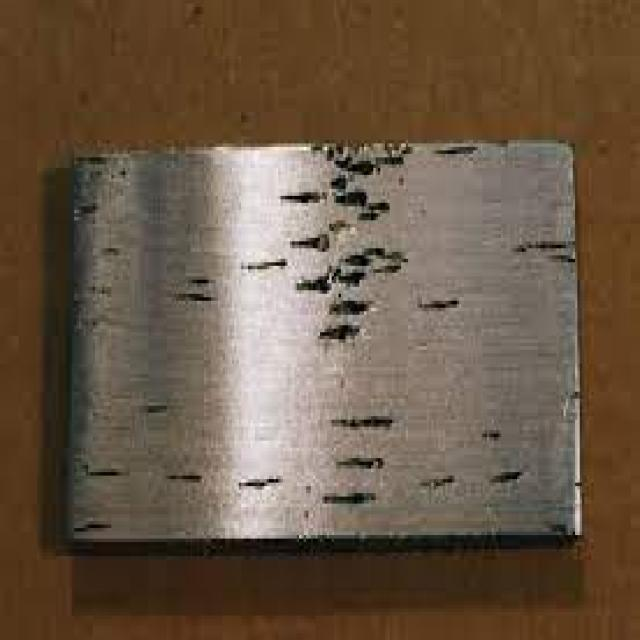Pitting Corrosion: (272, 143, 416, 358), (76, 150, 129, 225), (513, 235, 578, 269), (416, 285, 472, 322), (328, 410, 402, 437), (331, 447, 391, 477), (416, 465, 464, 497), (82, 457, 134, 484), (235, 472, 287, 496), (487, 462, 530, 491), (237, 251, 286, 276), (71, 512, 117, 538), (319, 490, 381, 509), (432, 143, 481, 167), (171, 288, 222, 310), (165, 469, 207, 486), (92, 240, 124, 262), (480, 422, 506, 446), (181, 271, 217, 287)
